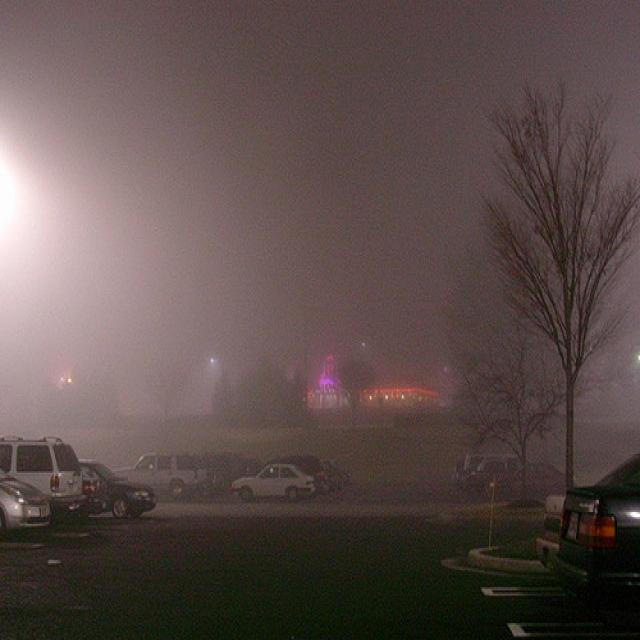car: (560, 452, 640, 593), (1, 436, 87, 527), (112, 448, 207, 501), (81, 459, 158, 522), (1, 469, 51, 539), (230, 462, 315, 503)
